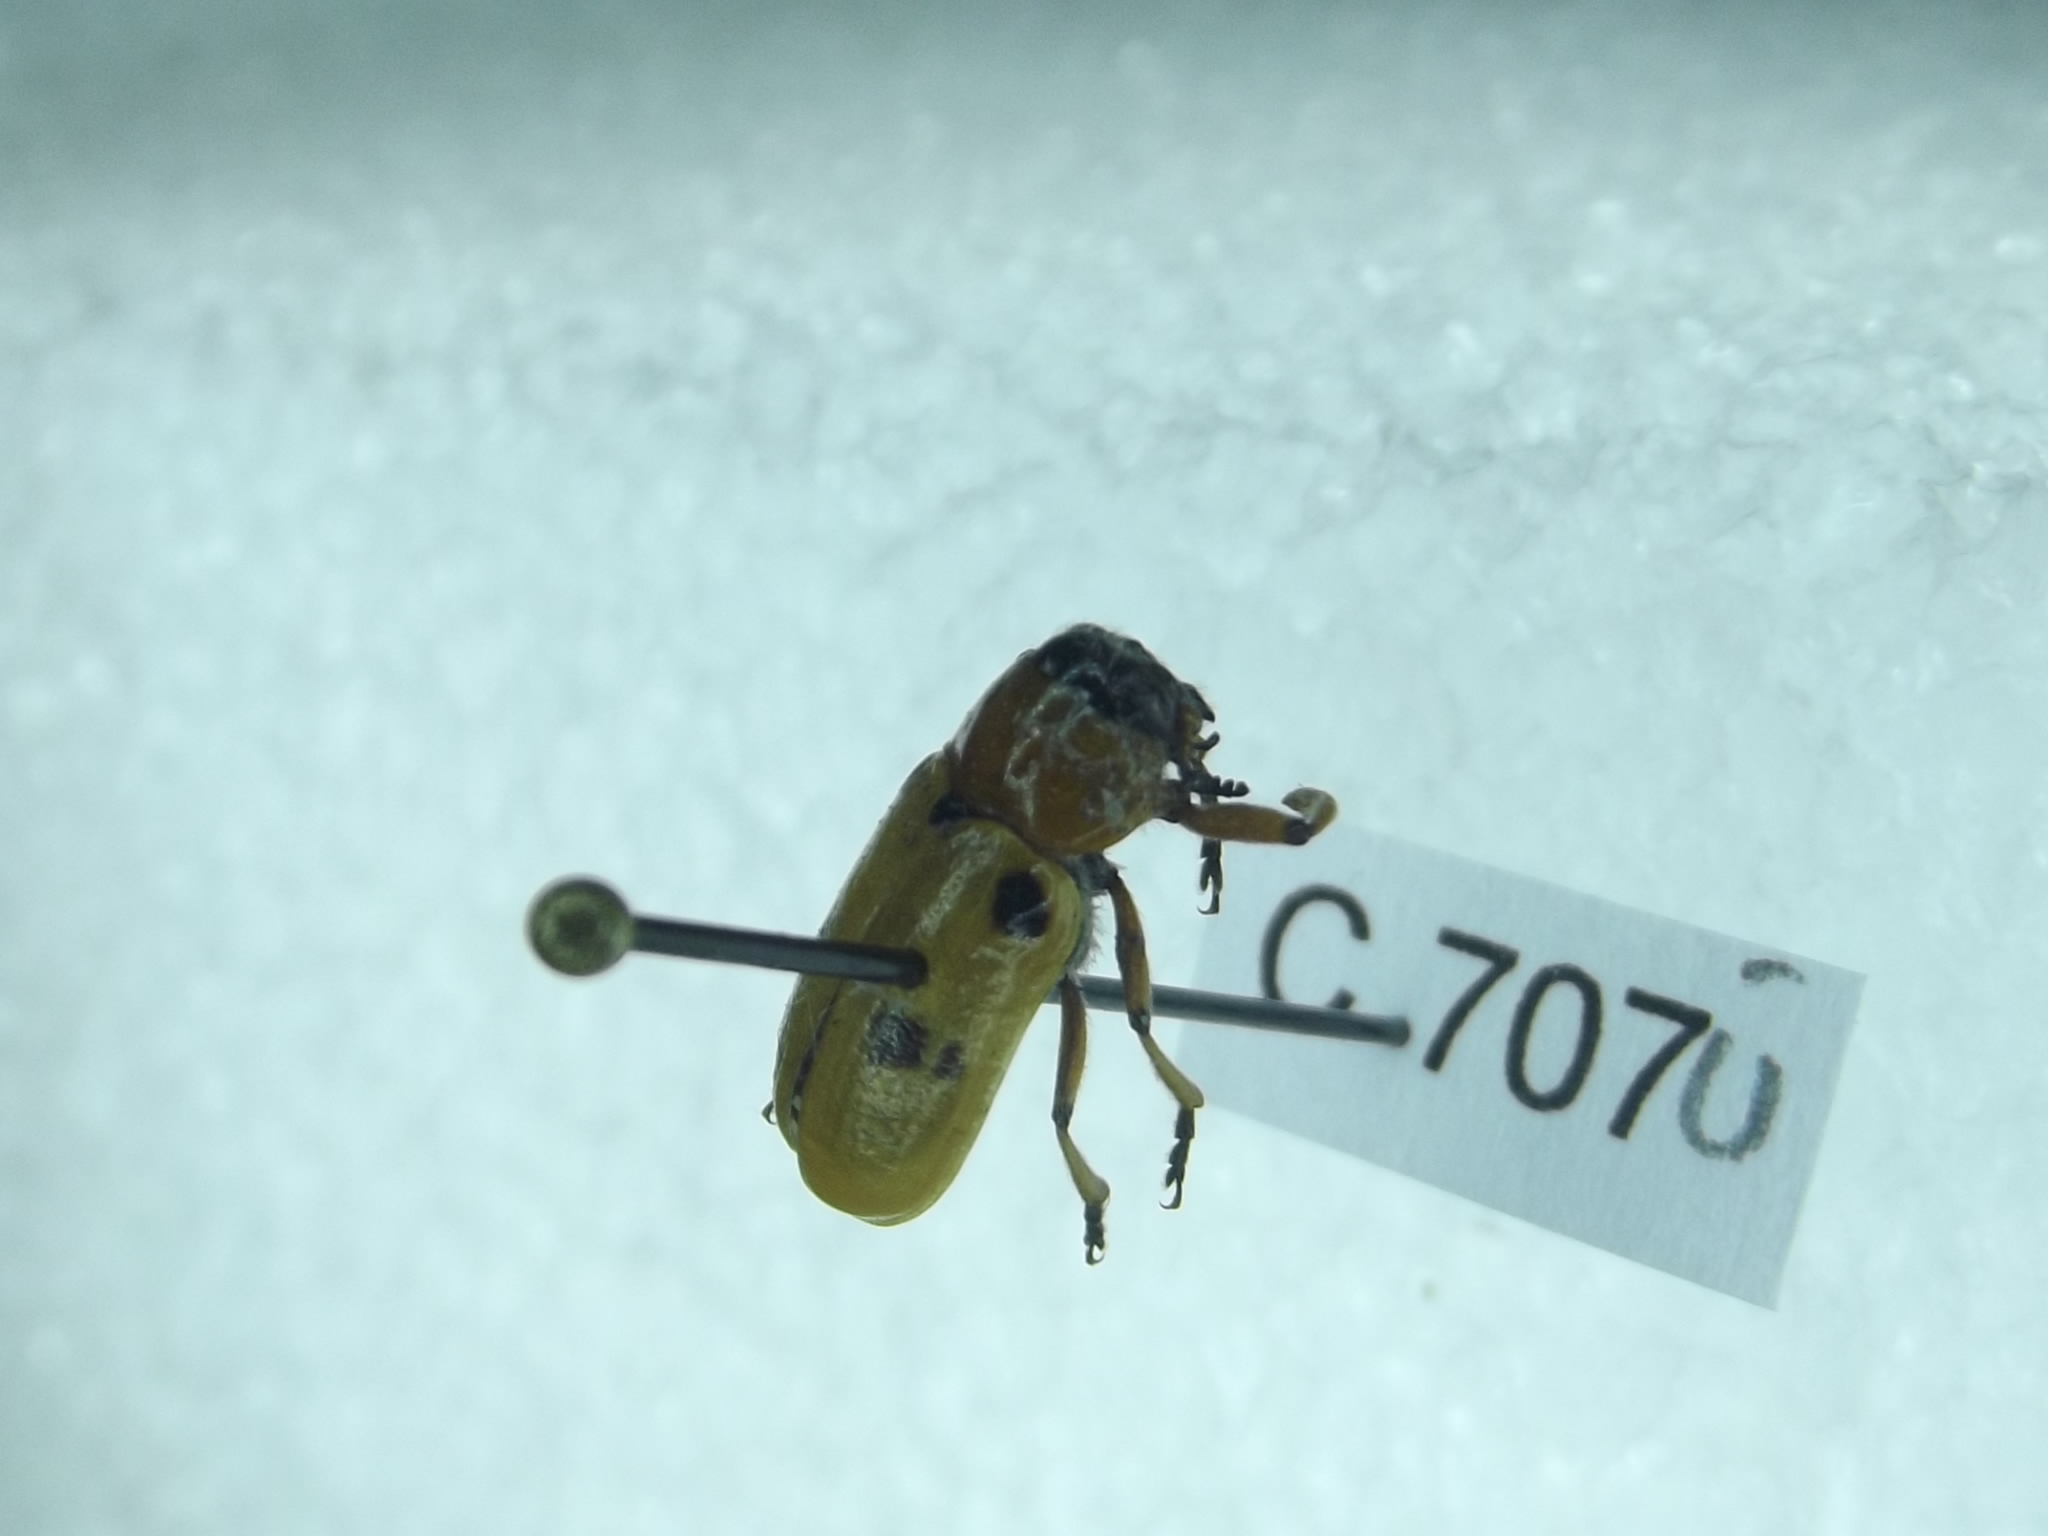Tituboea_macropus: (751, 605, 1343, 1329)
